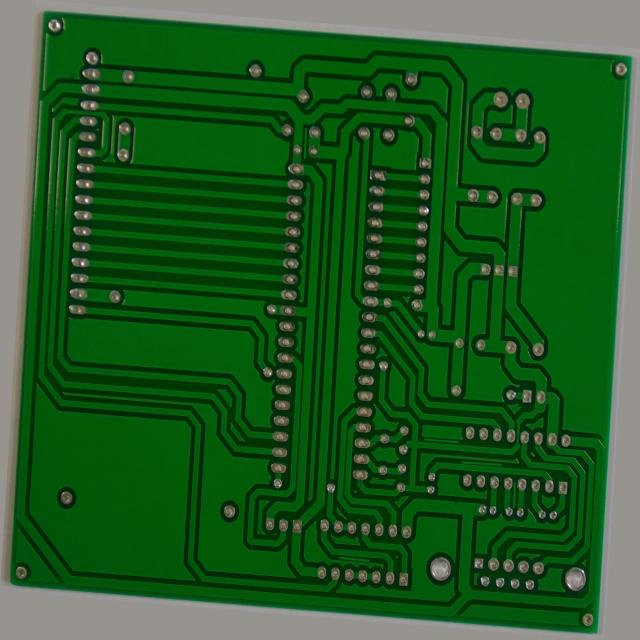spurious_copper: (473, 454, 526, 468), (351, 567, 394, 582), (432, 433, 475, 445), (287, 109, 299, 150), (531, 472, 542, 508)
